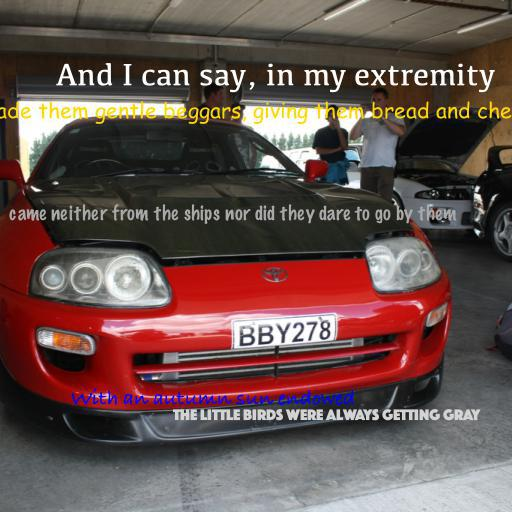Bradley Hand: (71, 388, 355, 406)
Comic Sans MS: (0, 101, 512, 124)
Kefa: (55, 63, 495, 93)
Marker Felt: (9, 204, 457, 224)
Phosphate: (172, 409, 480, 421)
